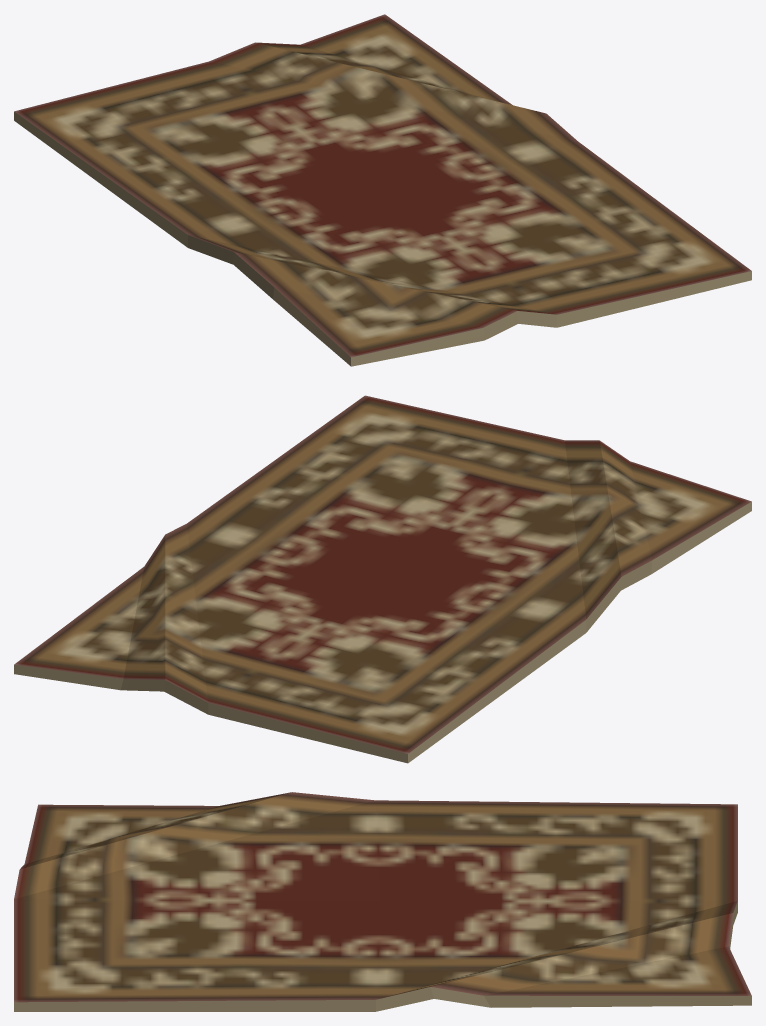
File: SM_Prop_Rug_28.glb
The picture shows the model from 3 angles, top to bottom: view 1: azimuth 30°, elevation 25°; view 2: azimuth 150°, elevation 25°; view 3: azimuth 270°, elevation 25°; orthographic projection. The views are drawn at different scales.
Visible parts, largest first — view 1: SM_Prop_Rug_28; view 2: SM_Prop_Rug_28; view 3: SM_Prop_Rug_28.
Boxes of the visible parts, x1=… form: SM_Prop_Rug_28: x1=14, y1=14, x2=751, y2=366; SM_Prop_Rug_28: x1=14, y1=395, x2=751, y2=763; SM_Prop_Rug_28: x1=14, y1=792, x2=751, y2=1011.
Size of the model in its own units: 1.48 by 0.0908 by 2.33.
Materials: 1 (1 with a texture image).
